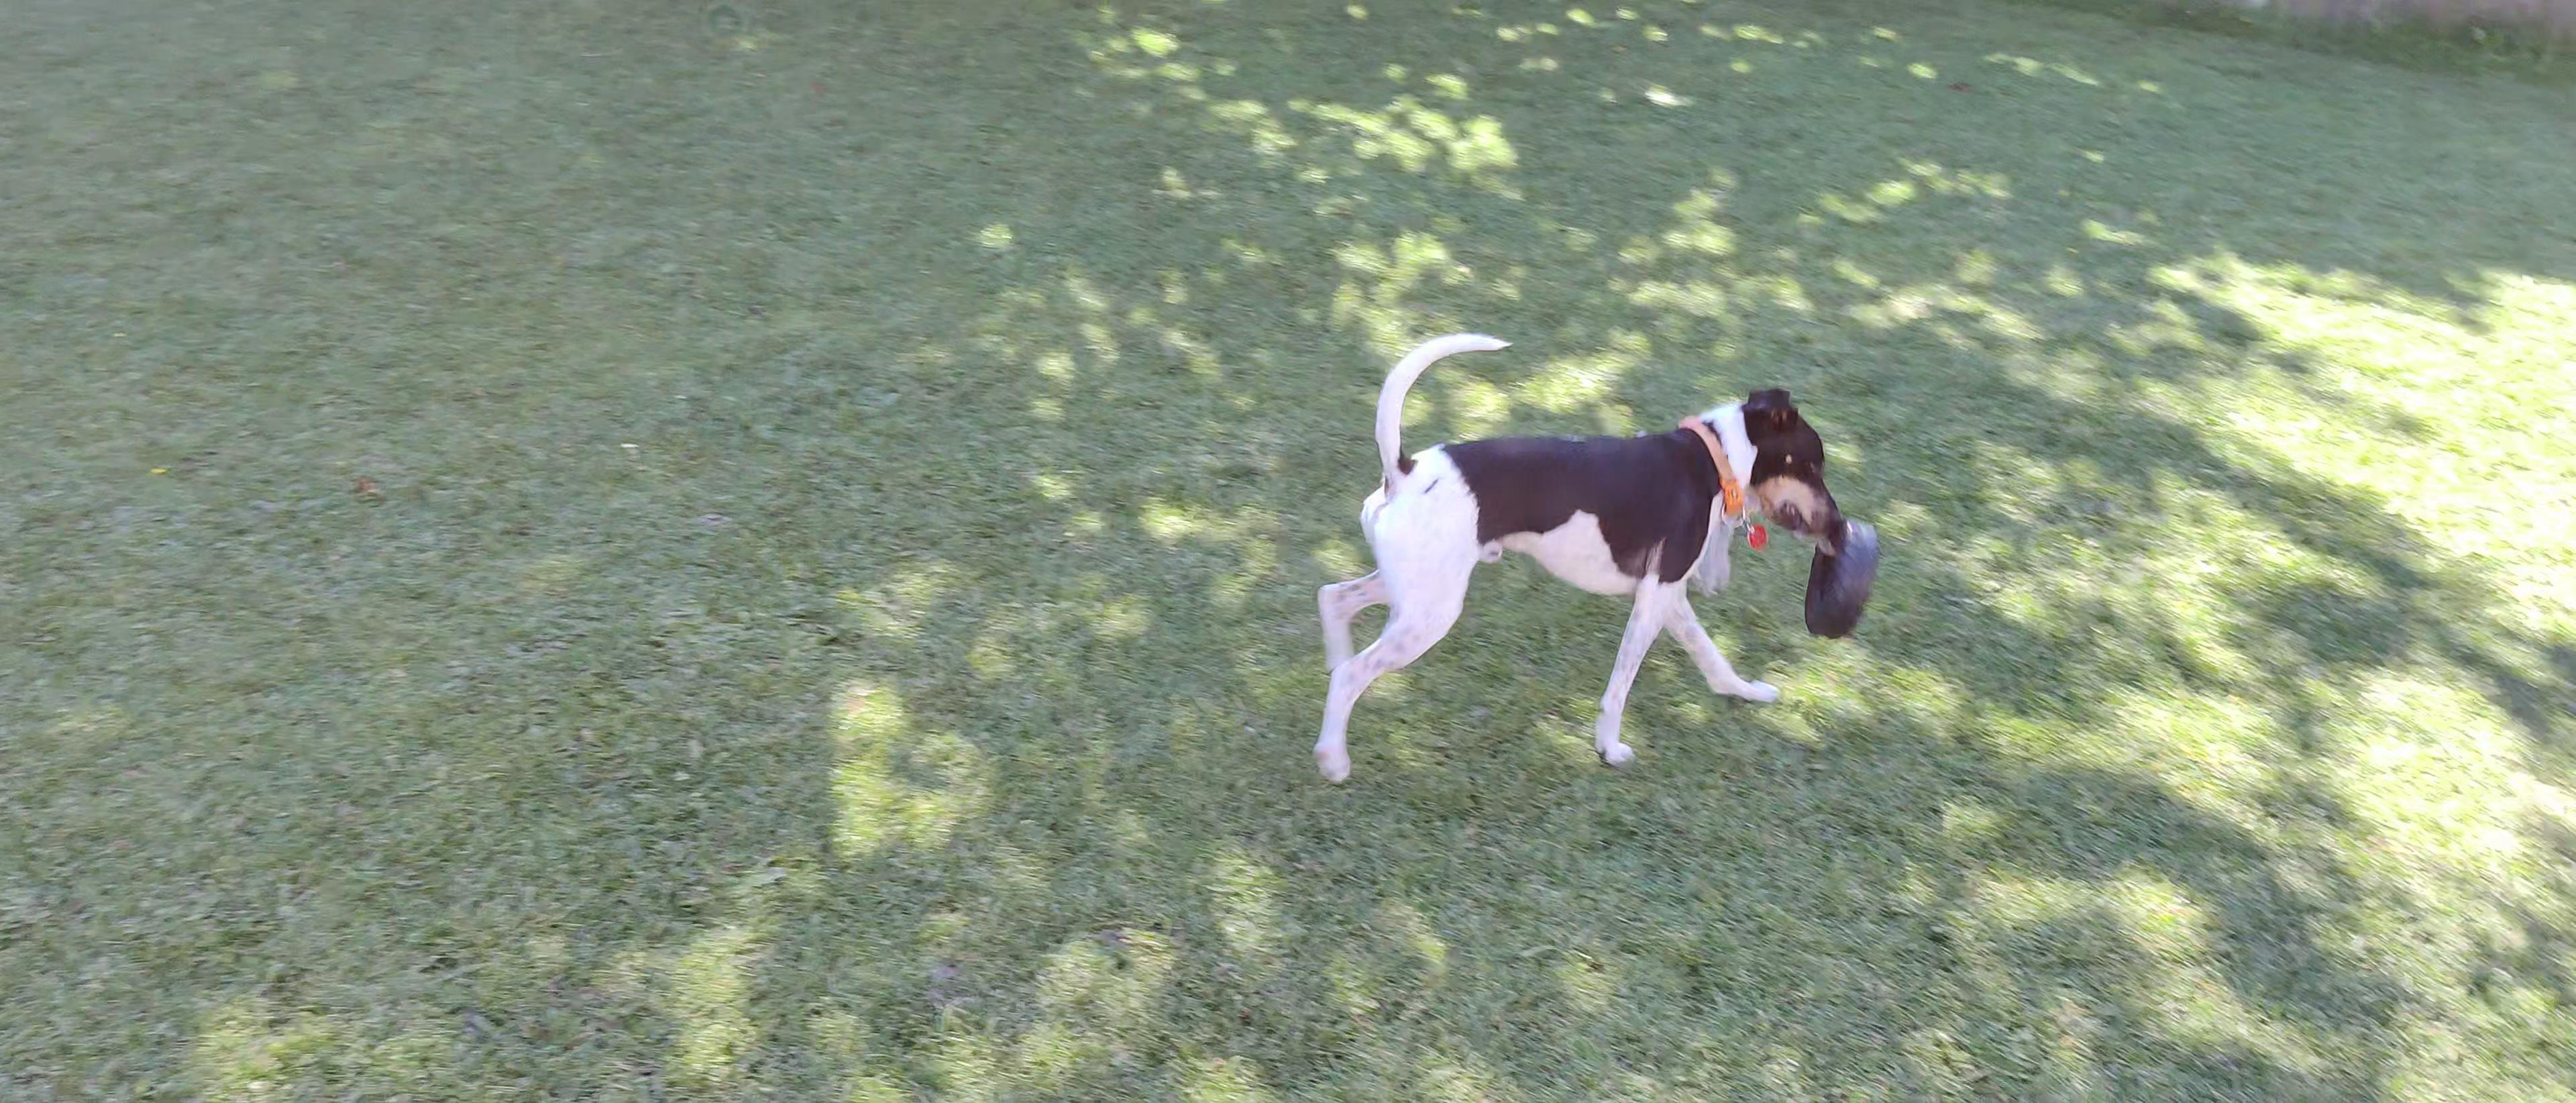Dog: (1311, 329, 1850, 786)
